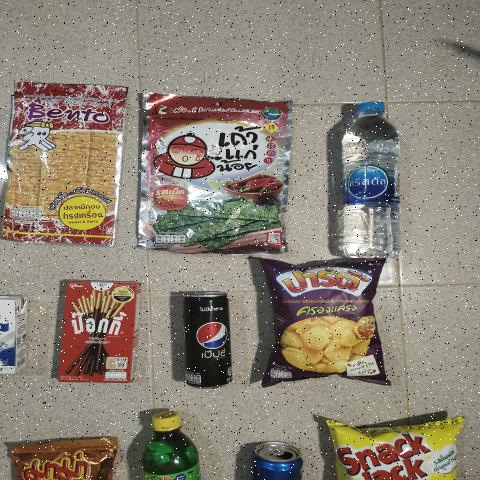bento_red: (9, 82, 118, 243)
crystal: (340, 96, 403, 260)
party_purple: (267, 262, 379, 382)
pepsi_black: (176, 292, 239, 389)
pokki: (60, 281, 136, 383)
taokaenoi: (149, 96, 291, 252)
